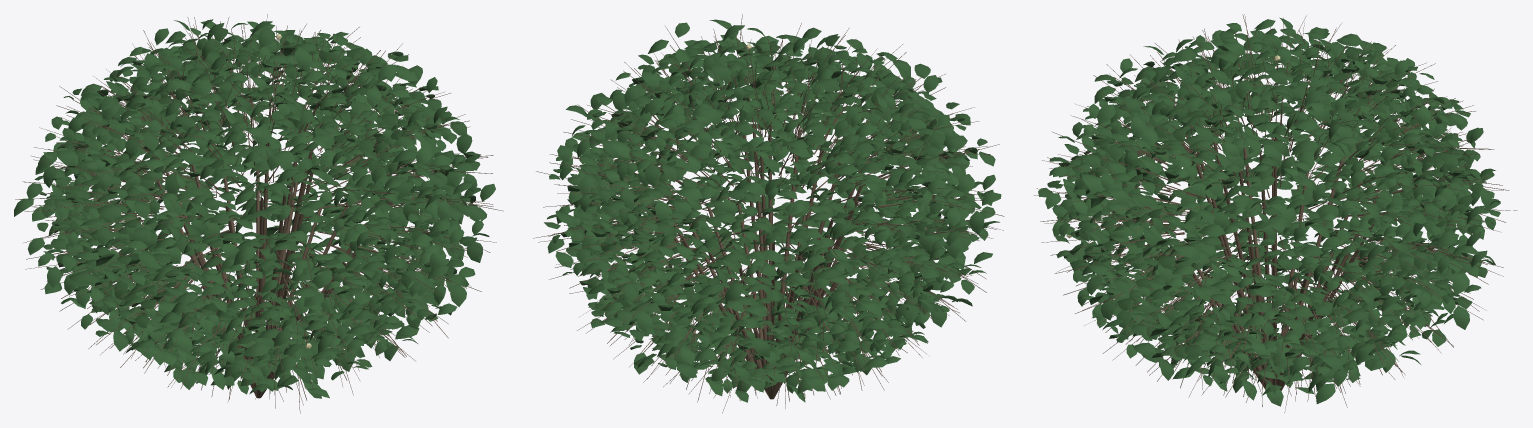
Rendered from boxwood.glb.
3 renders of one model, left to right at view 1: azimuth 30°, elevation 25°; view 2: azimuth 150°, elevation 25°; view 3: azimuth 270°, elevation 25°, orthographic.
Visible parts, largest first — view 1: leaves, branches; view 2: leaves, branches; view 3: leaves, branches.
Part boxes in pixels (box(x1,y1,x2,y2)): leaves: box(14, 19, 495, 398); branches: box(15, 14, 503, 413); leaves: box(544, 19, 1001, 402); branches: box(533, 14, 1004, 413); leaves: box(1038, 17, 1500, 406); branches: box(1034, 14, 1517, 412).
Size of the model in its own units: 2.47 by 2.05 by 2.5.
